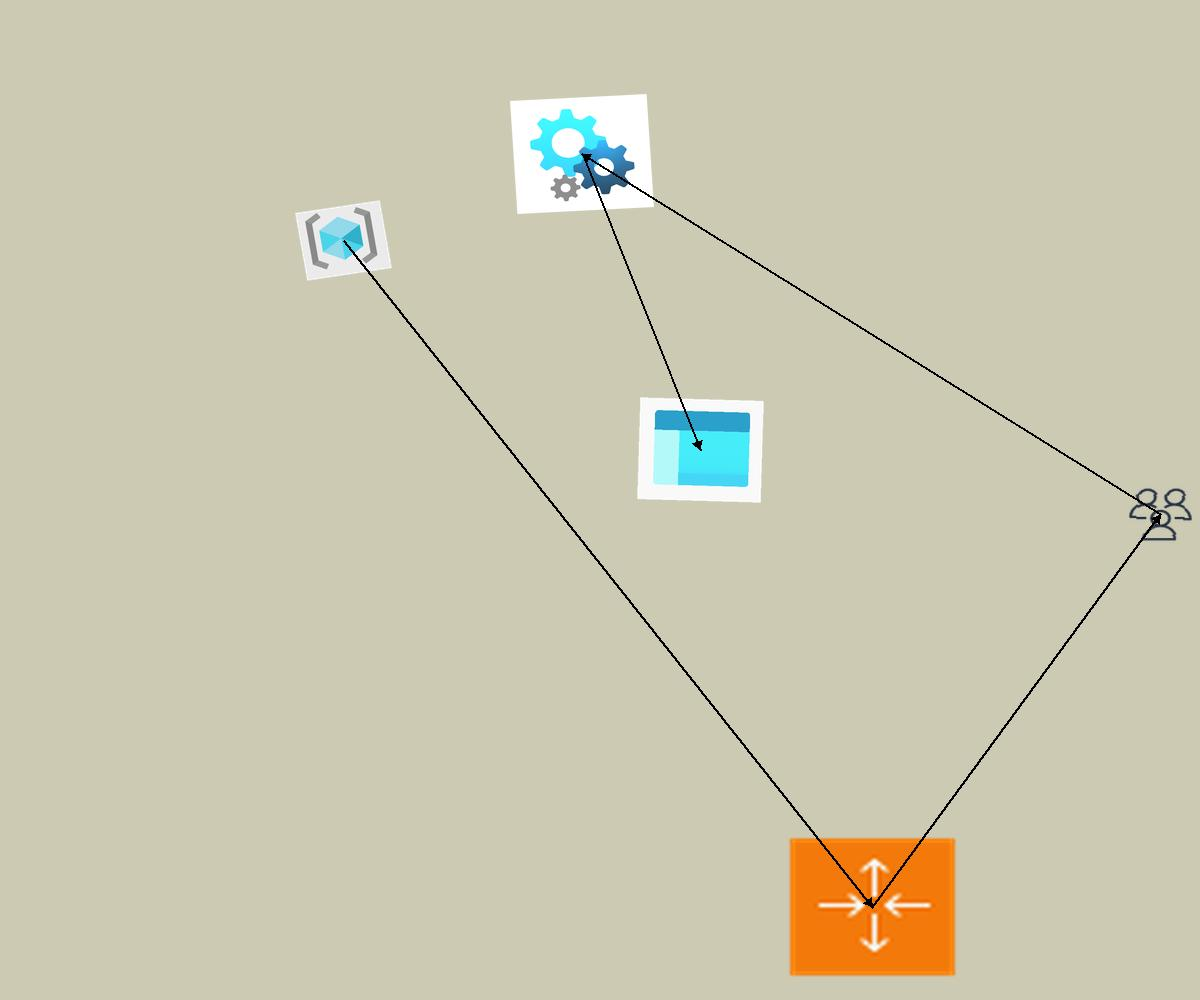AWS-Res_Users: (1125, 485, 1196, 544)
AWS-Scaling-group: (786, 835, 959, 979)
Azure_api: (510, 94, 654, 214)
Azure_management-portal: (637, 397, 764, 503)
Azure_resource_group: (295, 200, 392, 281)
